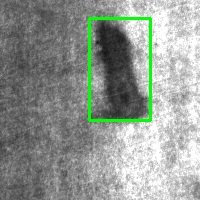patches: (89, 18, 150, 120)
